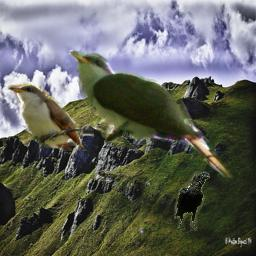Crow: (174, 171, 210, 231)
Cuckoo: (66, 50, 235, 179), (5, 78, 94, 151)
